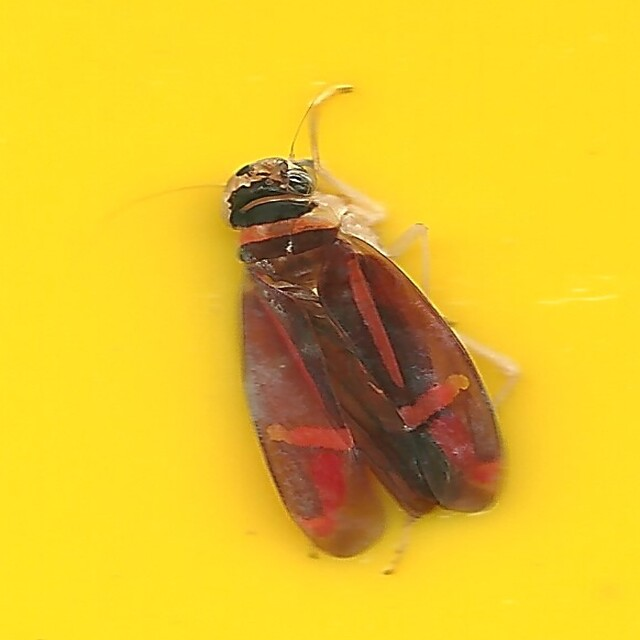Hemiptera: (110, 80, 530, 560)
